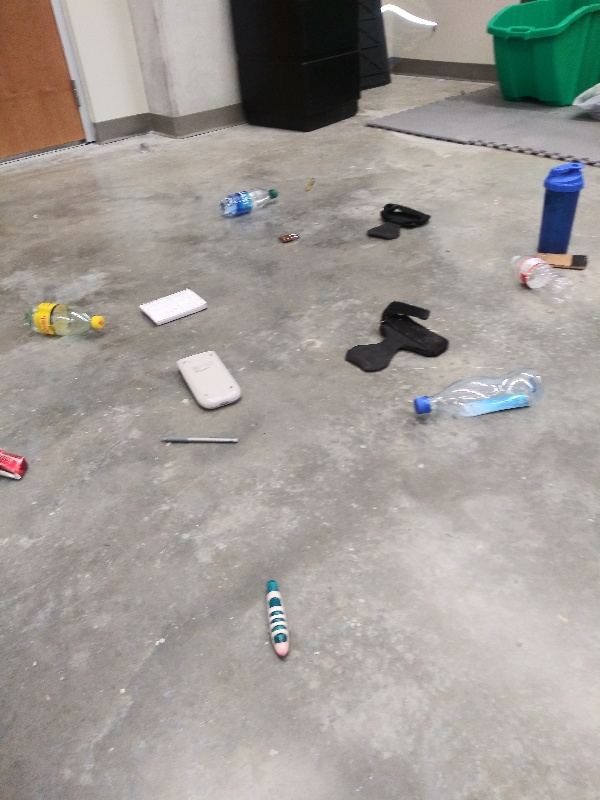bottle: (406, 370, 548, 429), (501, 248, 588, 317), (16, 300, 115, 339), (212, 186, 280, 216)
